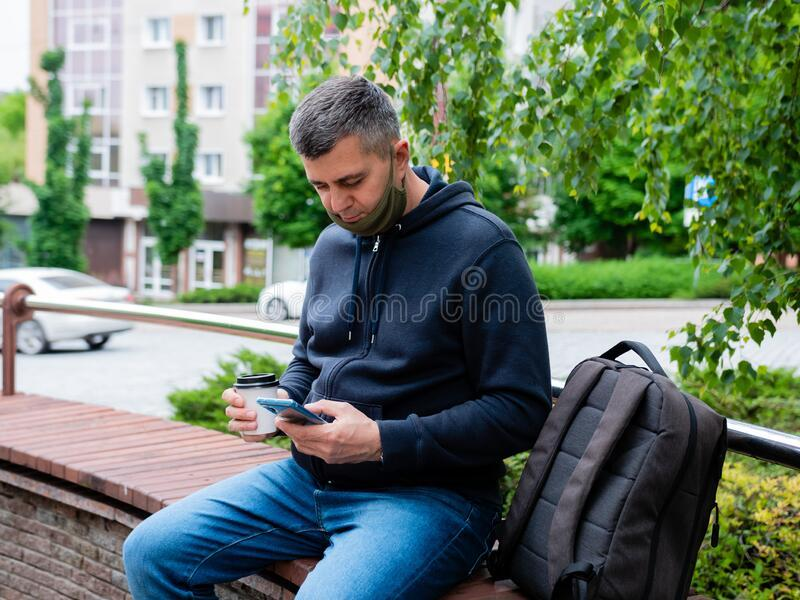Wore Mask Incorrectly: (285, 64, 427, 239)
